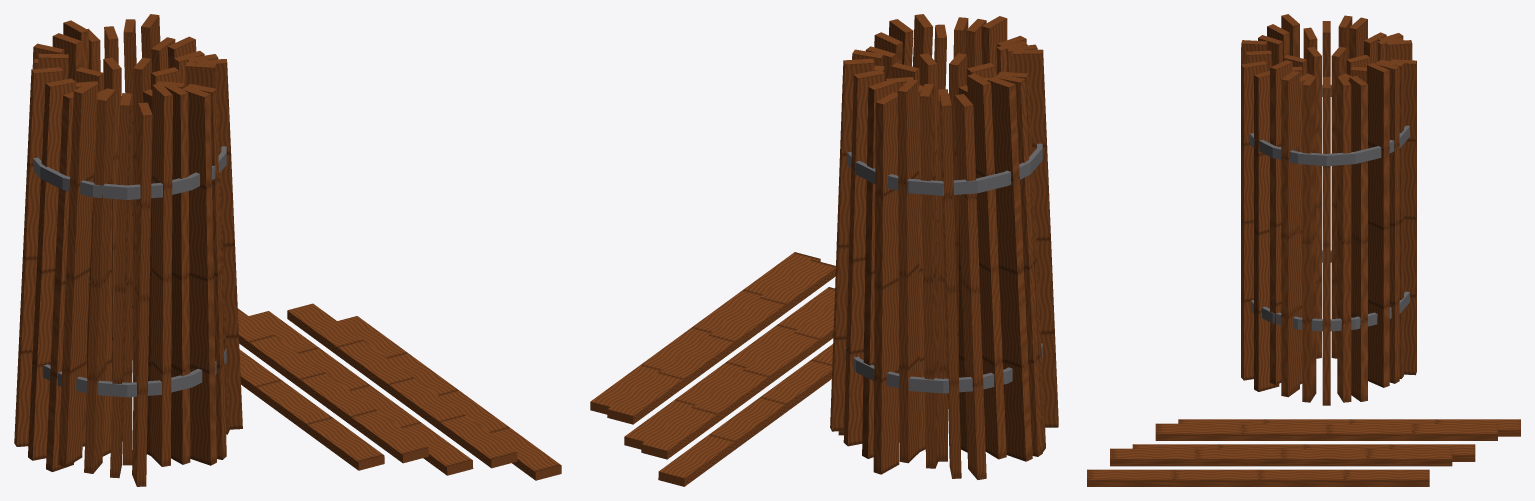
File: distillery-and-bonded-warehouse-stave-bundle-05a8d90c__38700.glb
The picture shows the model from 3 angles, left to right: view 1: azimuth 30°, elevation 25°; view 2: azimuth 150°, elevation 25°; view 3: azimuth 270°, elevation 25°; orthographic projection. The views are drawn at different scales.
Visible parts, largest first — view 1: stave-bundle-oak, stave-bundle-iron; view 2: stave-bundle-oak, stave-bundle-iron; view 3: stave-bundle-oak, stave-bundle-iron.
Part boxes in pixels (box(x1,y1,x2,y2)): stave-bundle-oak: box(14, 14, 561, 486); stave-bundle-iron: box(33, 146, 226, 397); stave-bundle-oak: box(590, 14, 1058, 486); stave-bundle-iron: box(845, 143, 1042, 393); stave-bundle-oak: box(1087, 14, 1520, 486); stave-bundle-iron: box(1250, 85, 1409, 331).
Size of the model in its own units: 1.66 by 1.56 by 1.9.
2 materials, 1 textured.
